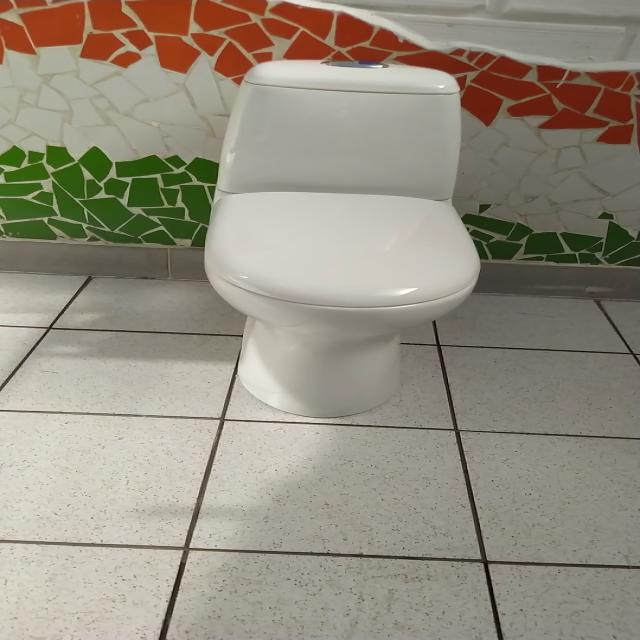toilet: (204, 53, 492, 422)
